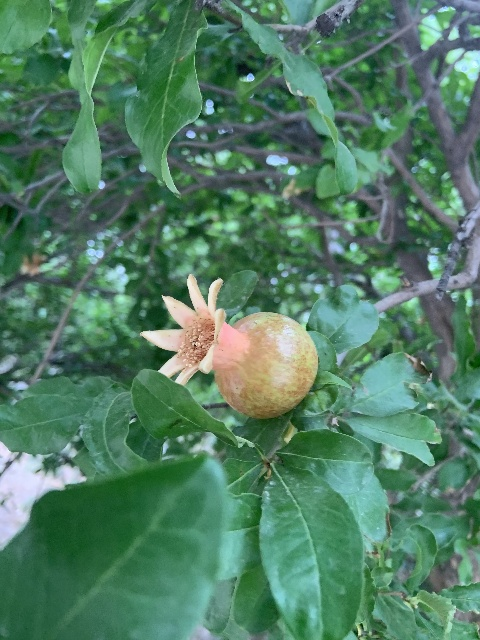early-fruit: (143, 273, 316, 417)
